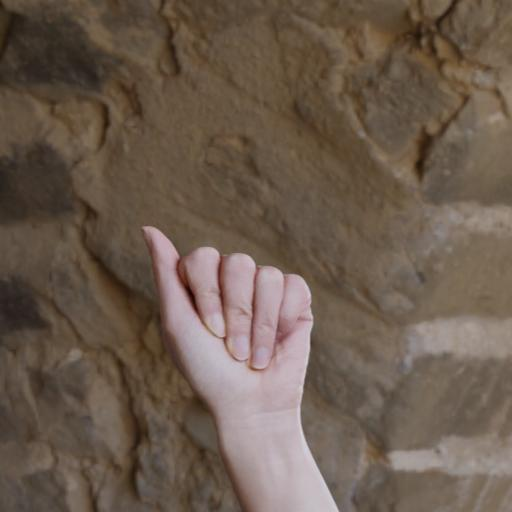A: (132, 186, 358, 463)
